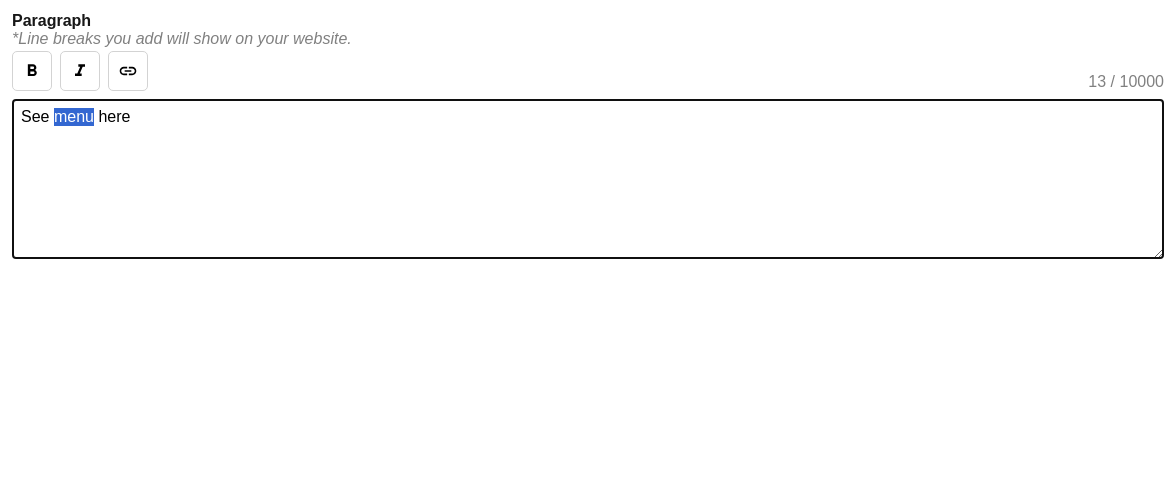
it: ParagraphField formatting › shows the highlighted words in a locked Link text field above the URL
The image size is (1176, 490).
Click the button named "Link text in paragraph 1" at (128,71), box [108,51,148,91]
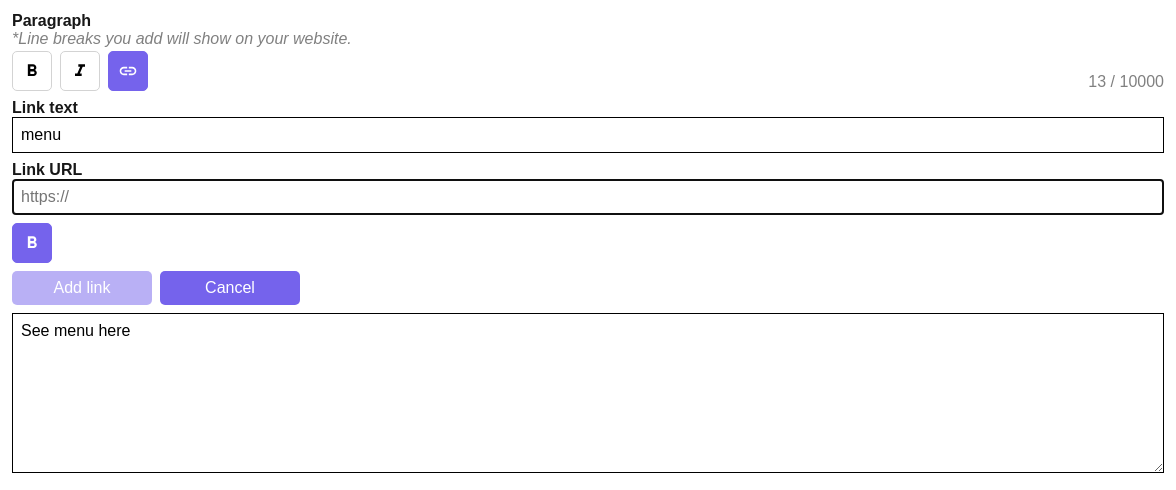
Now the field labelled "Link text" holds "menu", box [12,117,1164,153]
